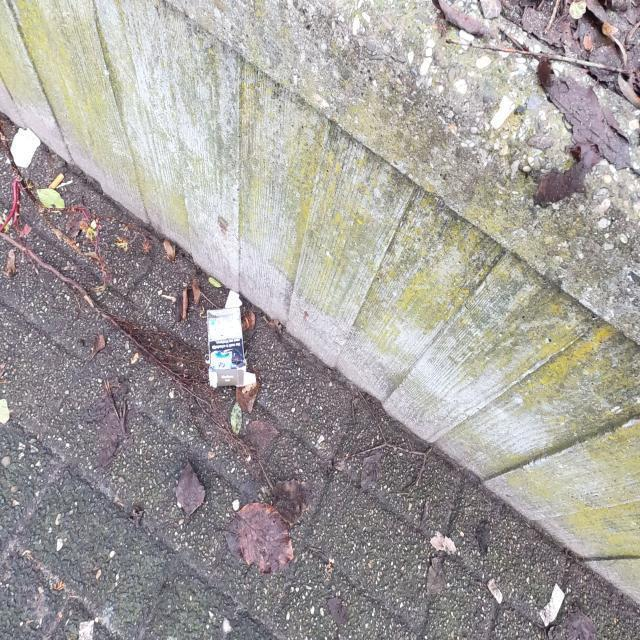Paper: (206, 288, 258, 389), (4, 126, 42, 170)
